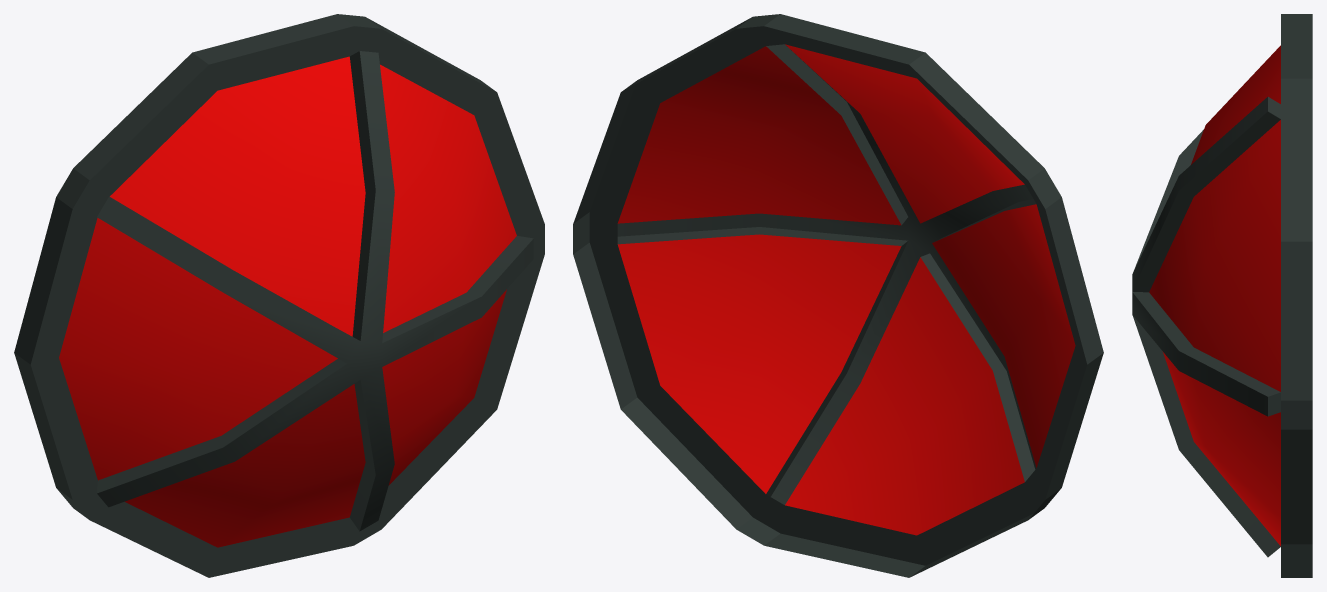
Rendered from SM_WallLight_small.fbx.
The picture shows the model from 3 angles, left to right: view 1: azimuth 30°, elevation 25°; view 2: azimuth 150°, elevation 25°; view 3: azimuth 270°, elevation 25°; orthographic projection. The views are drawn at different scales.
Parts seen in each view (by area): view 1: SM_WallLight_Small; view 2: SM_WallLight_Small; view 3: SM_WallLight_Small.
Part boxes in pixels (x1,y1,x2,y2): SM_WallLight_Small: (14, 14, 544, 577); SM_WallLight_Small: (573, 14, 1103, 577); SM_WallLight_Small: (1132, 14, 1312, 577).
Size of the model in its own units: 8.27 by 25.96 by 25.07.
